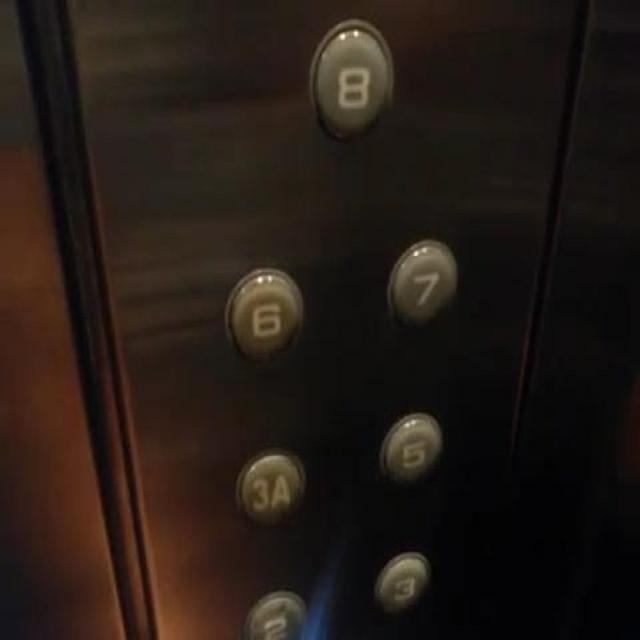3: (370, 548, 431, 613)
3A: (235, 445, 305, 527)
5: (377, 407, 443, 482)
6: (225, 264, 303, 364)
7: (385, 238, 460, 326)
8: (306, 16, 394, 143)
